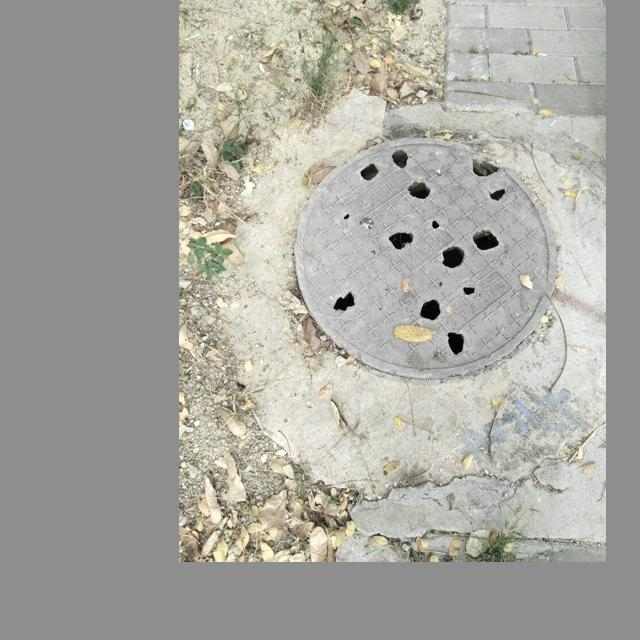broke: (294, 136, 558, 378)
